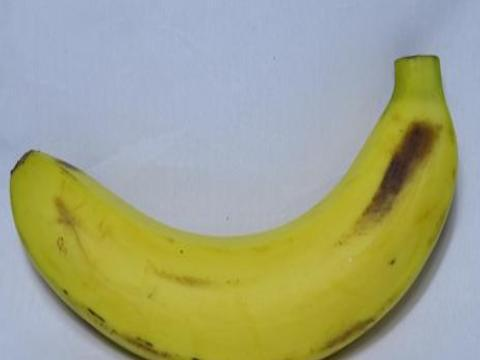freshripe: (2, 41, 468, 359)
